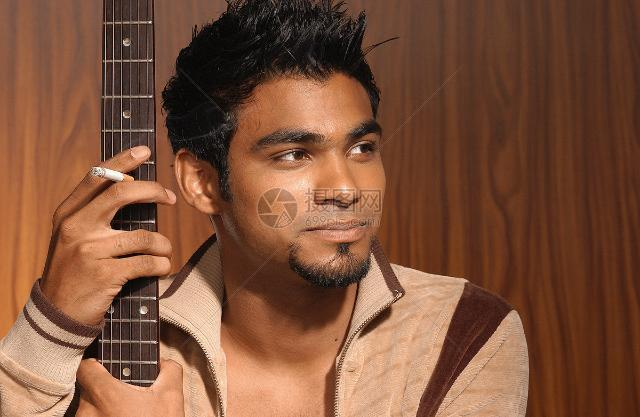SafeDriving: (263, 137, 321, 171), (339, 128, 385, 167)
Smoking: (85, 160, 149, 188)
